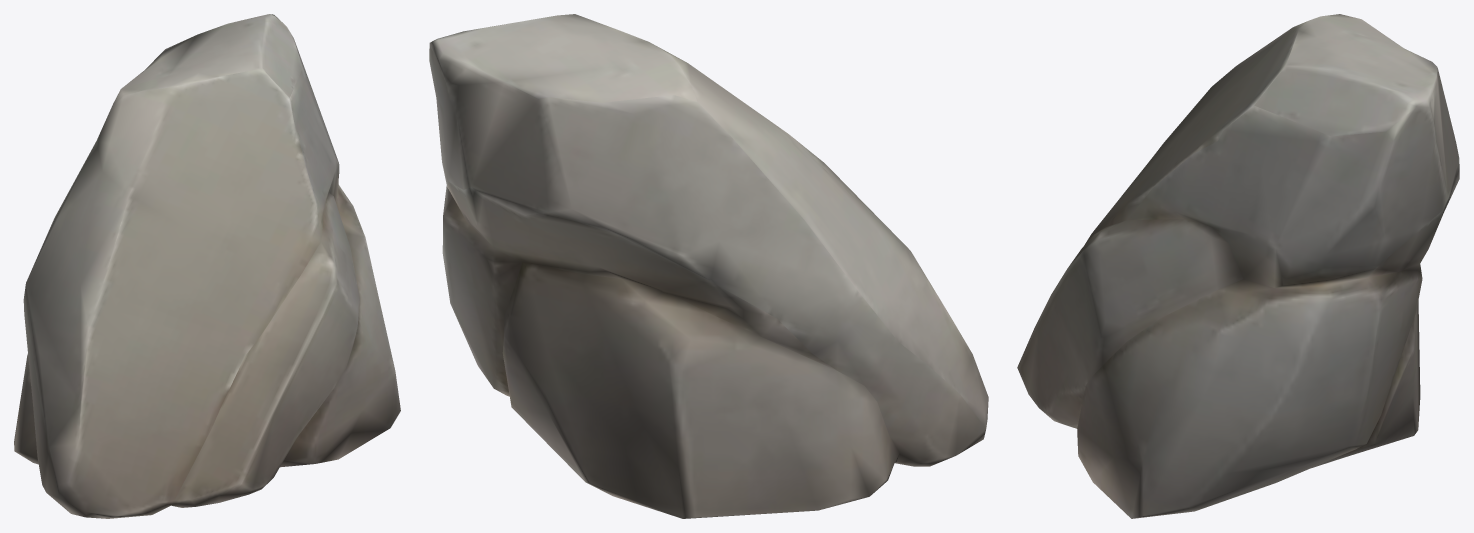
The model's file is wall-snow-36.glb.
3 renders of one model, left to right at view 1: azimuth 30°, elevation 25°; view 2: azimuth 150°, elevation 25°; view 3: azimuth 270°, elevation 25°, orthographic. The views are drawn at different scales.
Visible parts, largest first — view 1: piece; view 2: piece; view 3: piece.
Part boxes in pixels (x1,y1,x2,y2): piece: (14, 14, 400, 518); piece: (429, 14, 988, 518); piece: (1017, 14, 1459, 518).
Bounding box in the file's own units: 1.9 × 1.7 × 1.59.
1 material, 1 textured.
